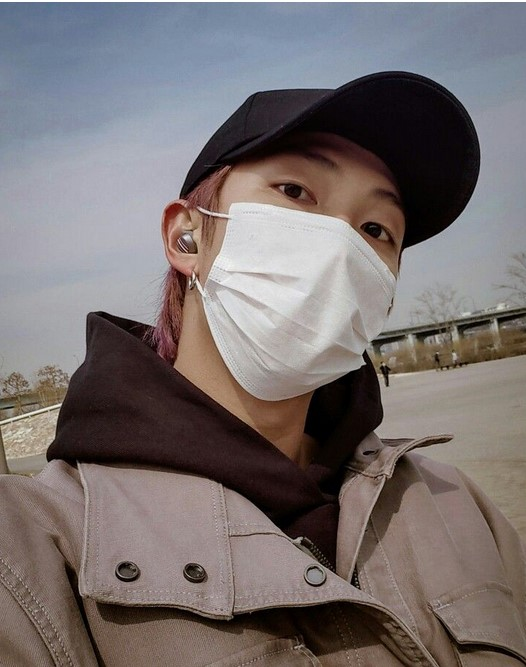face_with_mask: (165, 72, 478, 400)
